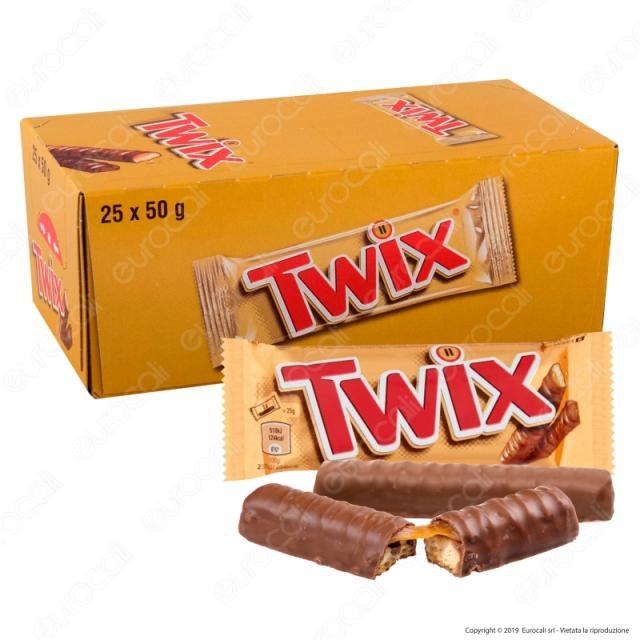Chocolate bar: (214, 336, 621, 483)
Chocolate bar packaged: (238, 481, 581, 580), (314, 459, 619, 524)
